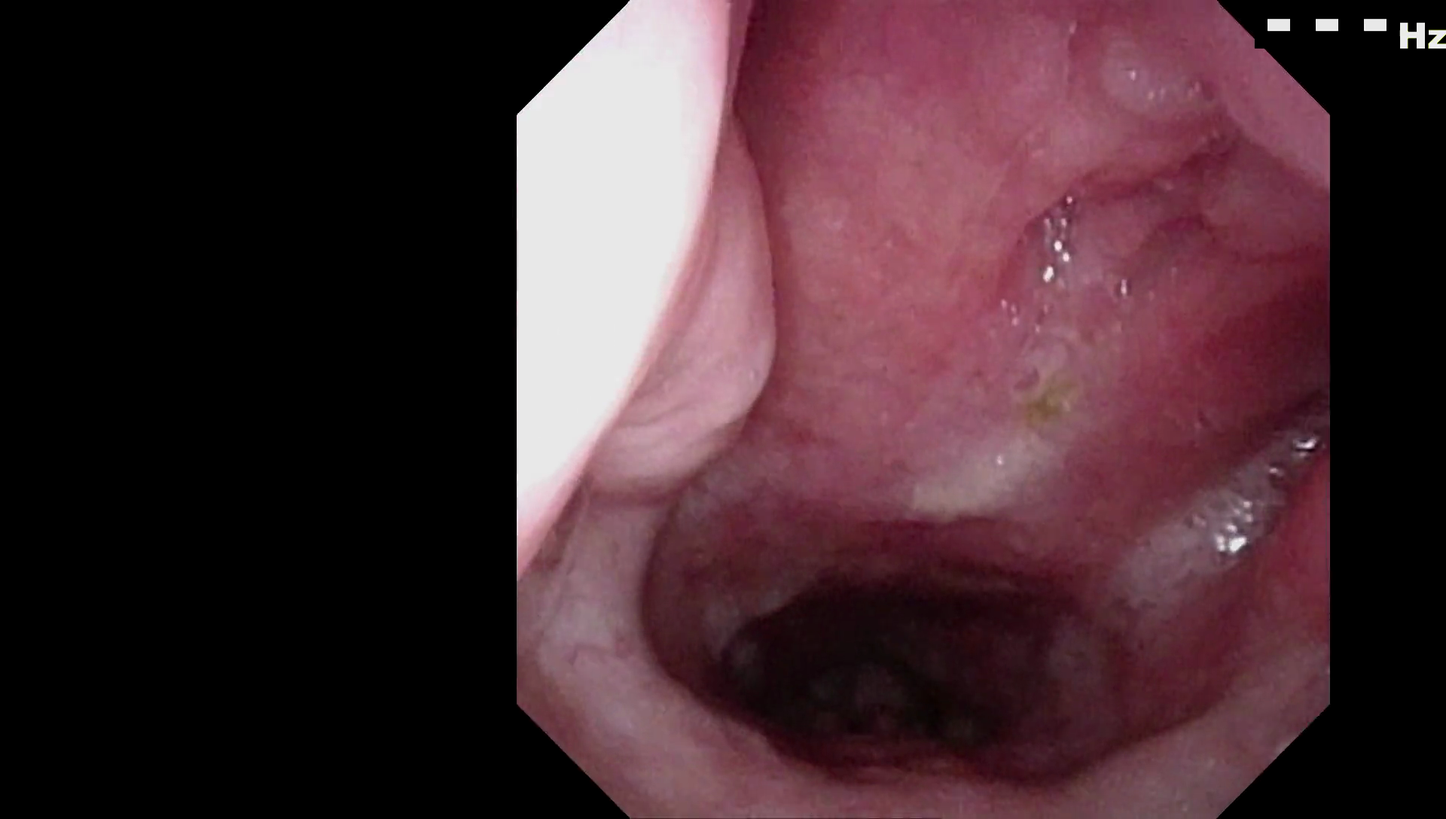close_wall: (518, 113, 757, 622)
next: (691, 492, 1078, 781)
